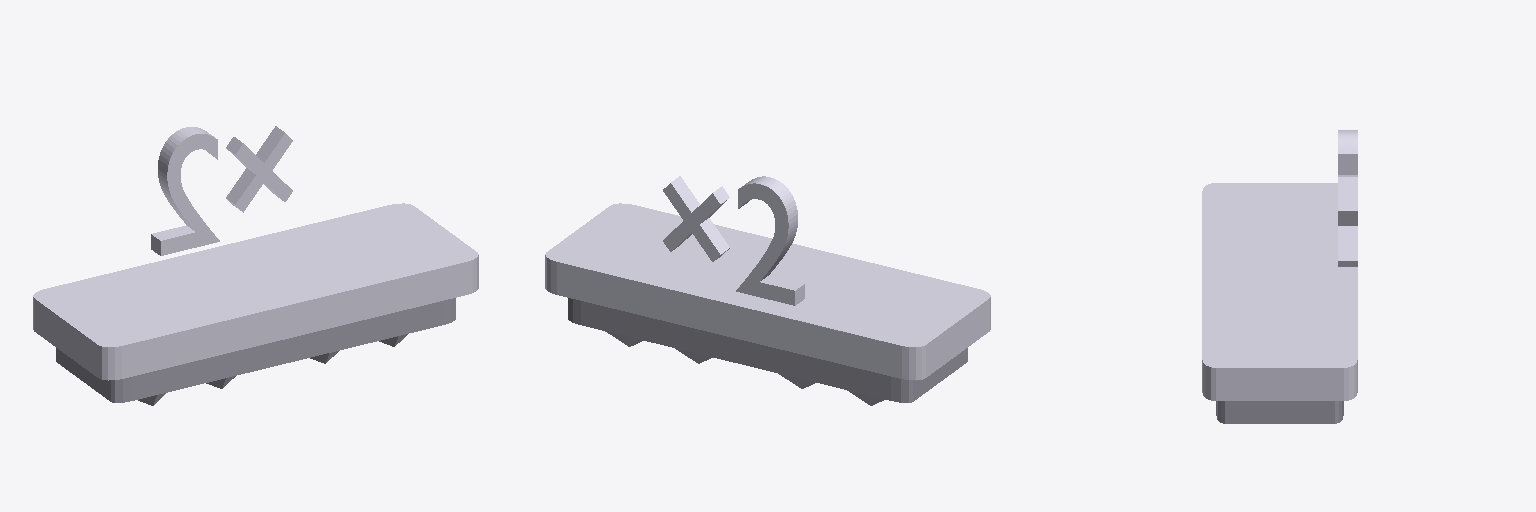
The picture shows the model from 3 angles: view 1: azimuth 30°, elevation 25°; view 2: azimuth 150°, elevation 25°; view 3: azimuth 270°, elevation 25°; orthographic projection.
Visible parts, largest first — view 1: Cube.001; view 2: Cube.001; view 3: Cube.001.
Part boxes in pixels (bbox=[...]): Cube.001: bbox=[33, 126, 478, 405]; Cube.001: bbox=[545, 176, 990, 405]; Cube.001: bbox=[1202, 130, 1357, 423].
Bounding box in the file's own units: 14.13 × 7.67 × 5.01.
Materials: 1 (1 with a texture image).